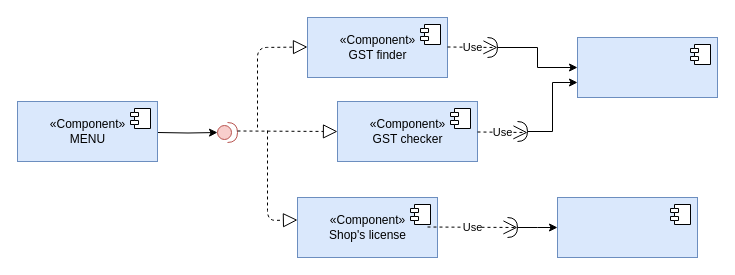
This 735x275 diagram has some shape labels left out. The shapes that lost their labels are listed below. From the top down, each one's centre as x and y in pixels, then its label:
the point at 647,67: «Component» product file
the point at 627,227: «Component» license file
